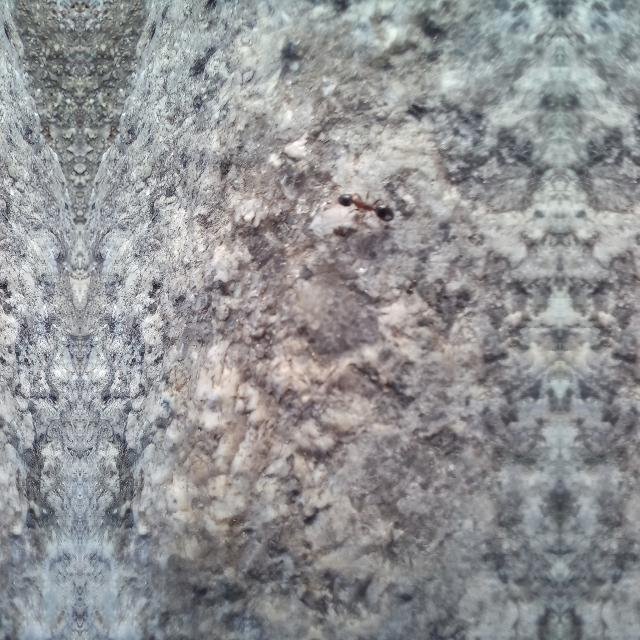Dolichoderus: (329, 178, 401, 236)
